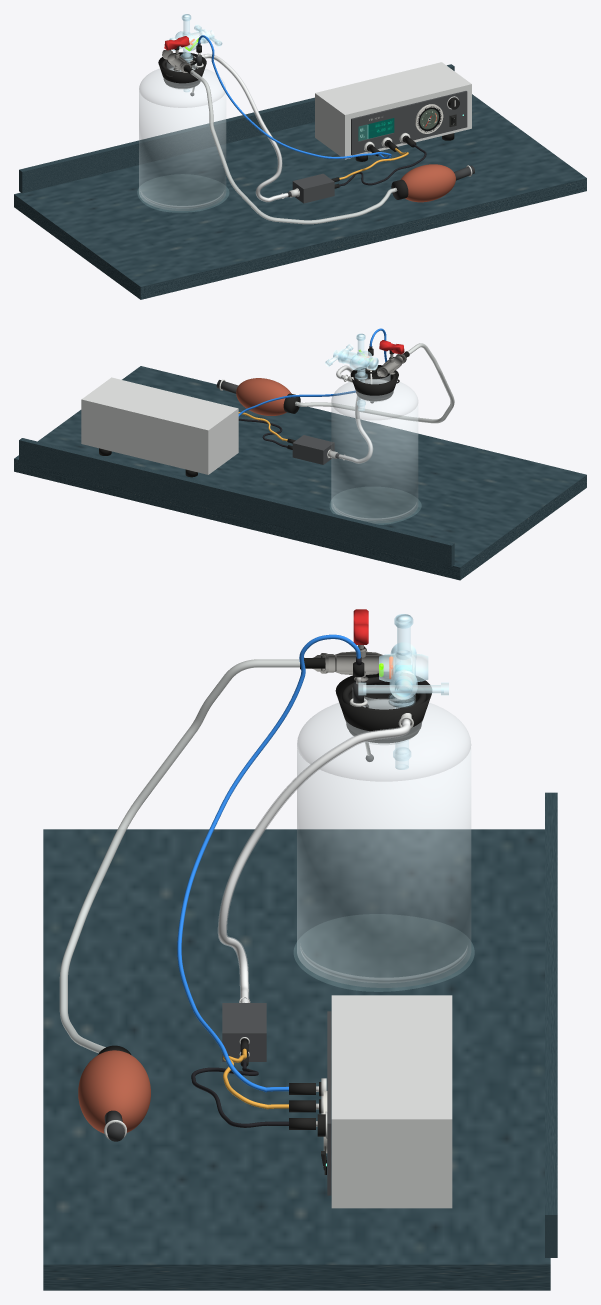
File: fd-ncd-c-ultra.glb
3 renders of one model, top to bottom at view 1: azimuth 30°, elevation 25°; view 2: azimuth 150°, elevation 25°; view 3: azimuth 270°, elevation 25°, orthographic. The views are drawn at different scales.
Parts seen in each view (by area): view 1: clean_lab_bench, Glass_Bottle, HSL_LabBench_Backstop_LowLip, FD_NCD_C_InstrumentBody, FD_NCD_C_FrontPanel, glass_bottle_rounded_shoulder, Pump_Bulb, HSL_PumpTube_Rebuilt, PressureSensor_SoftTube, PressureSensor_Box, HSL_PressureSensor_SoftTube_WhiteCore, Rubber_Stopper (+3 smaller); view 2: clean_lab_bench, HSL_LabBench_Backstop_LowLip, FD_NCD_C_InstrumentBody, Glass_Bottle, glass_bottle_rounded_shoulder, Pump_Bulb, HSL_PumpTube_Rebuilt, Rubber_Stopper, PressureSensor_Box, Stopcock_GlassBulgedBody, PressureSensor_SoftTube, TemperatureSensor_Wire (+1 smaller); view 3: clean_lab_bench, Glass_Bottle, FD_NCD_C_InstrumentBody, glass_bottle_rounded_shoulder, HSL_LabBench_Backstop_LowLip, HSL_PumpTube_Rebuilt, Pump_Bulb, PressureSensor_SoftTube, HSL_PressureSensor_SoftTube_WhiteCore, TemperatureSensor_Wire, Rubber_Stopper, PressureSensor_Box (+6 smaller).
Boxes of the visible parts, x1=… form: clean_lab_bench: x1=14, y1=94, x2=586, y2=299; Glass_Bottle: x1=139, y1=92, x2=225, y2=210; HSL_LabBench_Backstop_LowLip: x1=19, y1=64, x2=454, y2=193; FD_NCD_C_InstrumentBody: x1=315, y1=62, x2=471, y2=159; FD_NCD_C_FrontPanel: x1=351, y1=91, x2=467, y2=155; glass_bottle_rounded_shoulder: x1=139, y1=67, x2=225, y2=107; Pump_Bulb: x1=400, y1=164, x2=455, y2=202; HSL_PumpTube_Rebuilt: x1=190, y1=70, x2=397, y2=224; PressureSensor_SoftTube: x1=204, y1=53, x2=288, y2=202; PressureSensor_Box: x1=292, y1=173, x2=334, y2=203; HSL_PressureSensor_SoftTube_WhiteCore: x1=205, y1=54, x2=288, y2=201; Rubber_Stopper: x1=158, y1=52, x2=206, y2=88; clean_lab_bench: x1=14, y1=366, x2=586, y2=580; HSL_LabBench_Backstop_LowLip: x1=19, y1=438, x2=454, y2=566; FD_NCD_C_InstrumentBody: x1=81, y1=377, x2=238, y2=474; Glass_Bottle: x1=331, y1=405, x2=417, y2=523; glass_bottle_rounded_shoulder: x1=331, y1=379, x2=417, y2=419; Pump_Bulb: x1=236, y1=378, x2=291, y2=415; HSL_PumpTube_Rebuilt: x1=295, y1=343, x2=454, y2=423; Rubber_Stopper: x1=350, y1=365, x2=398, y2=401; PressureSensor_Box: x1=292, y1=435, x2=334, y2=464; Stopcock_GlassBulgedBody: x1=338, y1=349, x2=378, y2=371; PressureSensor_SoftTube: x1=336, y1=365, x2=372, y2=463; TemperatureSensor_Wire: x1=238, y1=328, x2=387, y2=416; clean_lab_bench: x1=43, y1=829, x2=550, y2=1290; Glass_Bottle: x1=297, y1=749, x2=470, y2=987; FD_NCD_C_InstrumentBody: x1=331, y1=995, x2=452, y2=1208; glass_bottle_rounded_shoulder: x1=297, y1=699, x2=470, y2=781; HSL_LabBench_Backstop_LowLip: x1=545, y1=792, x2=557, y2=1257; HSL_PumpTube_Rebuilt: x1=59, y1=659, x2=299, y2=1053; Pump_Bulb: x1=78, y1=1050, x2=150, y2=1133; PressureSensor_SoftTube: x1=217, y1=723, x2=410, y2=1002; HSL_PressureSensor_SoftTube_WhiteCore: x1=218, y1=724, x2=409, y2=1002; TemperatureSensor_Wire: x1=177, y1=634, x2=360, y2=1092; Rubber_Stopper: x1=335, y1=672, x2=431, y2=743; PressureSensor_Box: x1=222, y1=1003, x2=266, y2=1061.
Size of what is drawn, in the model's own units: 6.5 by 2.69 by 3.25.
Materials: 64 (12 with a texture image).
